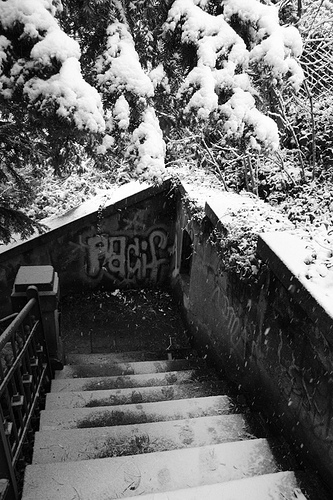graffiti: (86, 226, 173, 283), (206, 285, 250, 358)
